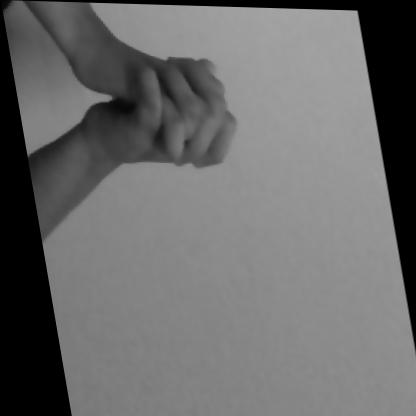prayer: (4, 12, 284, 316)
